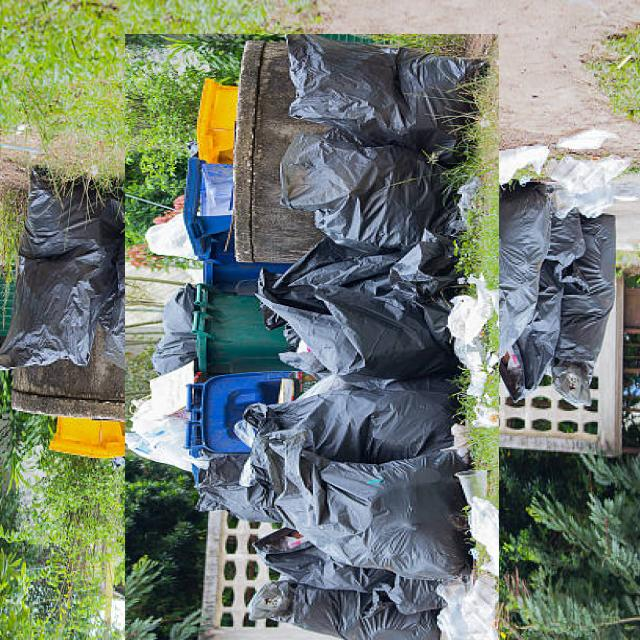garbage: (64, 94, 561, 592)
